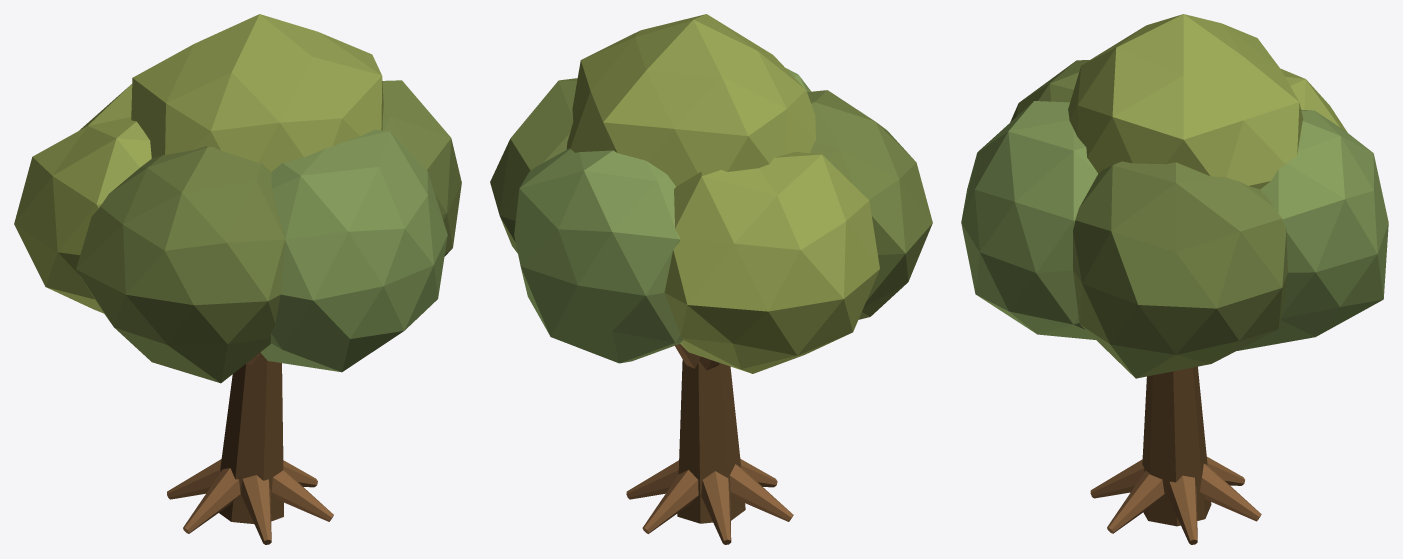
The model's file is SM_Oak_01.fbx.
3 views of the same model, side by side, from view 1: azimuth 30°, elevation 25°; view 2: azimuth 150°, elevation 25°; view 3: azimuth 270°, elevation 25° (orthographic). The views are drawn at different scales.
Parts seen in each view (by area): view 1: SM_Oak_01; view 2: SM_Oak_01; view 3: SM_Oak_01.
Boxes of the visible parts, x1,y1,x2,y2 form: SM_Oak_01: (14, 14, 461, 544); SM_Oak_01: (490, 14, 932, 544); SM_Oak_01: (961, 14, 1388, 544).
Bounding box in the file's own units: 5.97 × 5.6 × 7.28.
